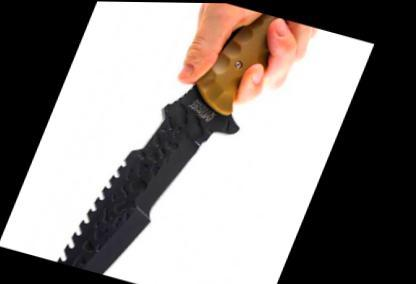knife: (45, 0, 328, 281)
